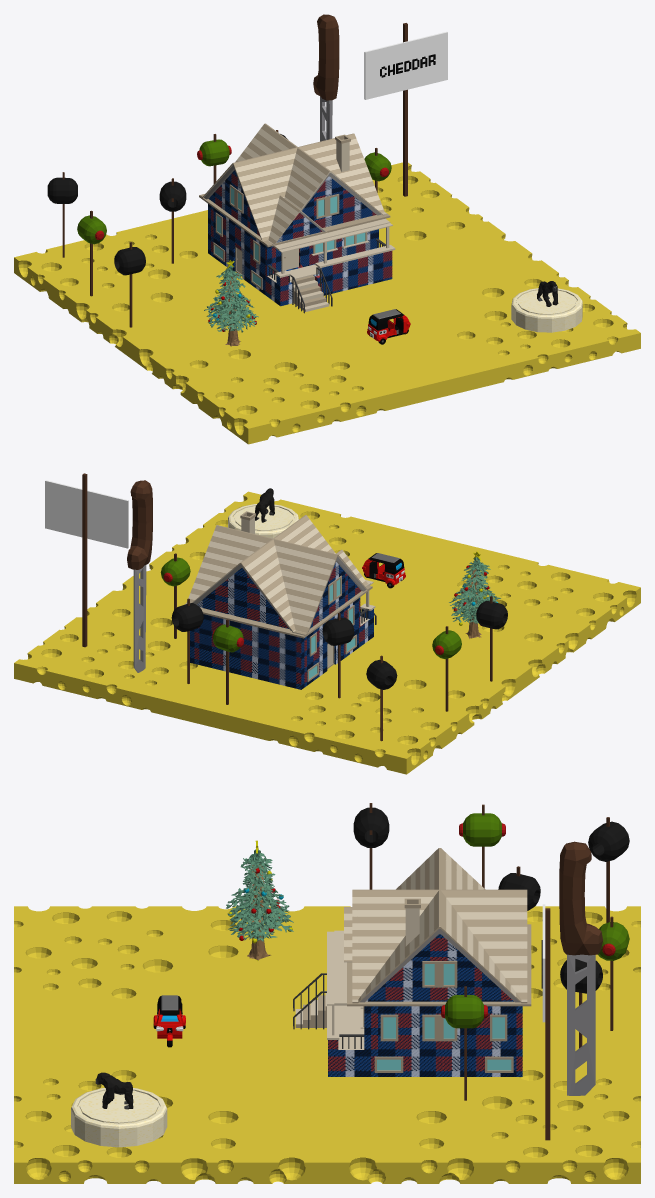
3 views of the same model, one above another, from view 1: azimuth 30°, elevation 25°; view 2: azimuth 150°, elevation 25°; view 3: azimuth 270°, elevation 25° (orthographic). The views are drawn at different scales.
Parts seen in each view (by area): view 1: Cube.022, Cube.171, Cube.023, Cylinder.016, Cube.024, OBJRANDOM_CHRISTMAS_TREE, VEHICLES_TUC_TUC, Sphere.017, Sphere.016, Sphere.020, Sphere.018, Sphere.022 (+1 smaller); view 2: Cube.022, Cube.171, Cube.023, Cube.024, OBJRANDOM_CHRISTMAS_TREE, Cylinder.016, VEHICLES_TUC_TUC, Sphere.017, Sphere.020, Sphere.021, Sphere.016, Sphere.018 (+3 smaller); view 3: Cube.022, Cube.171, Cube.024, Cylinder.016, OBJRANDOM_CHRISTMAS_TREE, Cube.023, Sphere.019, Sphere.016, Sphere.018, Sphere.017, VEHICLES_TUC_TUC, Sphere.022 (+3 smaller).
Part boxes in pixels (<box>): Cube.022: <box>14,162,640,444</box>; Cube.171: <box>199,123,395,313</box>; Cube.023: <box>364,23,447,196</box>; Cylinder.016: <box>511,288,582,332</box>; Cube.024: <box>313,14,339,141</box>; OBJRANDOM_CHRISTMAS_TREE: <box>204,260,258,346</box>; VEHICLES_TUC_TUC: <box>367,309,410,344</box>; Sphere.017: <box>114,242,145,327</box>; Sphere.016: <box>47,172,77,257</box>; Sphere.020: <box>159,178,186,263</box>; Sphere.018: <box>77,210,106,296</box>; Sphere.022: <box>197,134,231,183</box>; Cube.022: <box>14,491,640,774</box>; Cube.171: <box>184,511,376,689</box>; Cube.023: <box>45,473,128,647</box>; Cube.024: <box>127,480,152,672</box>; OBJRANDOM_CHRISTMAS_TREE: <box>449,551,500,638</box>; Cylinder.016: <box>228,504,298,538</box>; VEHICLES_TUC_TUC: <box>362,553,405,588</box>; Sphere.017: <box>476,596,507,681</box>; Sphere.020: <box>322,612,354,698</box>; Sphere.021: <box>171,598,203,683</box>; Sphere.016: <box>366,655,397,741</box>; Sphere.018: <box>432,626,461,711</box>; Cube.022: <box>14,906,640,1183</box>; Cube.171: <box>293,848,531,1076</box>; Cube.024: <box>559,841,602,1095</box>; Cylinder.016: <box>71,1088,167,1147</box>; OBJRANDOM_CHRISTMAS_TREE: <box>226,840,293,961</box>; Cube.023: <box>541,904,550,1140</box>; Sphere.019: <box>441,986,487,1100</box>; Sphere.016: <box>588,817,629,922</box>; Sphere.018: <box>459,804,505,888</box>; Sphere.017: <box>353,803,389,889</box>; VEHICLES_TUC_TUC: <box>153,995,185,1047</box>; Sphere.022: <box>598,916,629,1030</box>.
Size of the model in its own units: 3917 by 2007 by 4000.
Materials: 36 (4 with a texture image).
